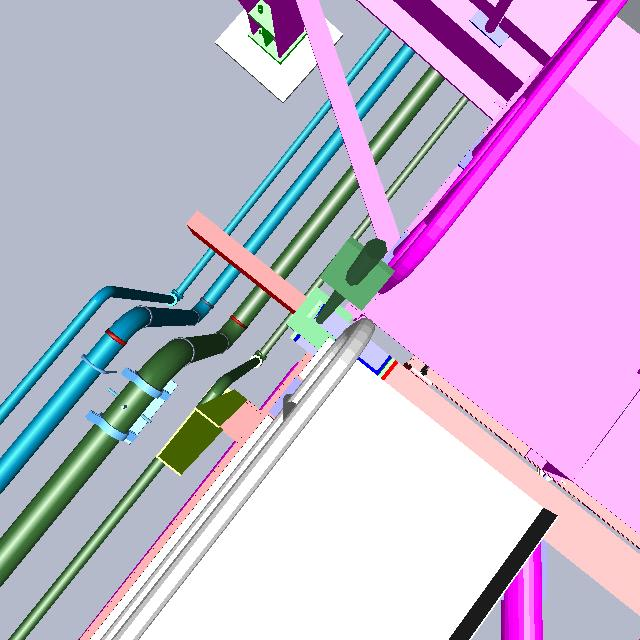Poste: (285, 236, 401, 355)
Soporte: (155, 372, 273, 482)
